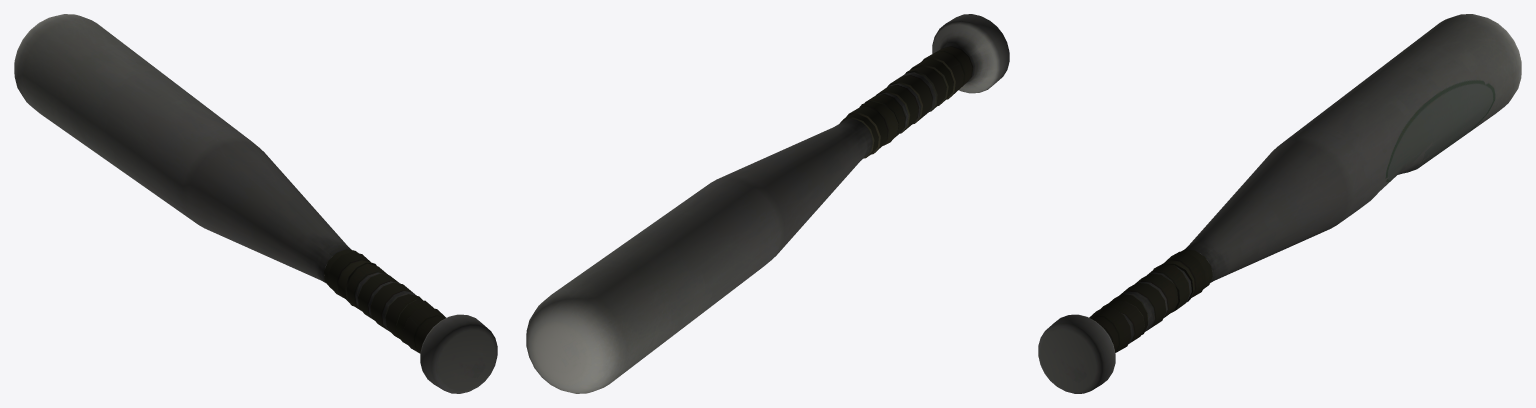
File: c_bat.glb
The picture shows the model from 3 angles, left to right: view 1: azimuth 30°, elevation 25°; view 2: azimuth 150°, elevation 25°; view 3: azimuth 330°, elevation 25°; orthographic projection.
Parts seen in each view (by area): view 1: c_bat_reference; view 2: c_bat_reference; view 3: c_bat_reference.
Part boxes in pixels (x1=…): c_bat_reference: x1=14, y1=14, x2=497, y2=393; c_bat_reference: x1=526, y1=14, x2=1009, y2=393; c_bat_reference: x1=1038, y1=14, x2=1521, y2=393.
Bounding box in the file's own units: 3.79 × 3.79 × 29.97.
Materials: 1 (1 with a texture image).
